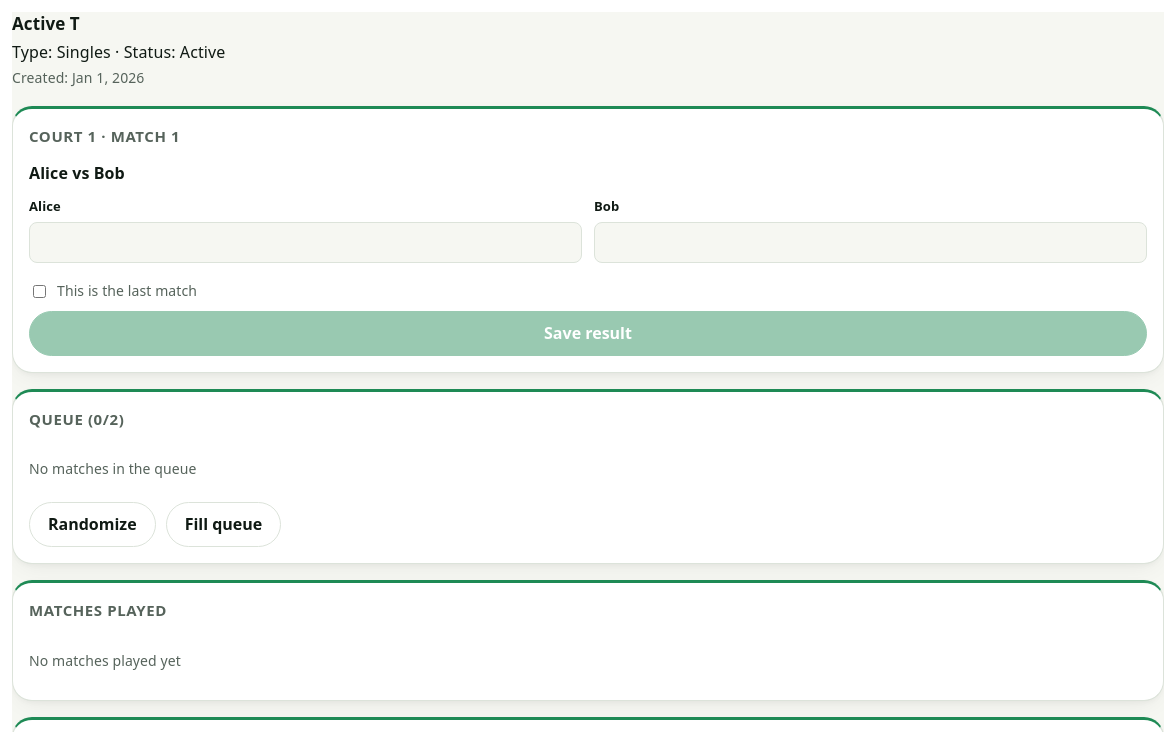
Test: TournamentDetail: Queue (Randomize / Fill queue / Remove) › warns with the reused players’ names when a draw reuses someone already in progress, and clears it on Remove
Expected: the heading "Court 1 · Match 1" is shown, [29,126,180,146]
Click the button "Randomize". click: [92, 525]
box: [29,502,156,547]
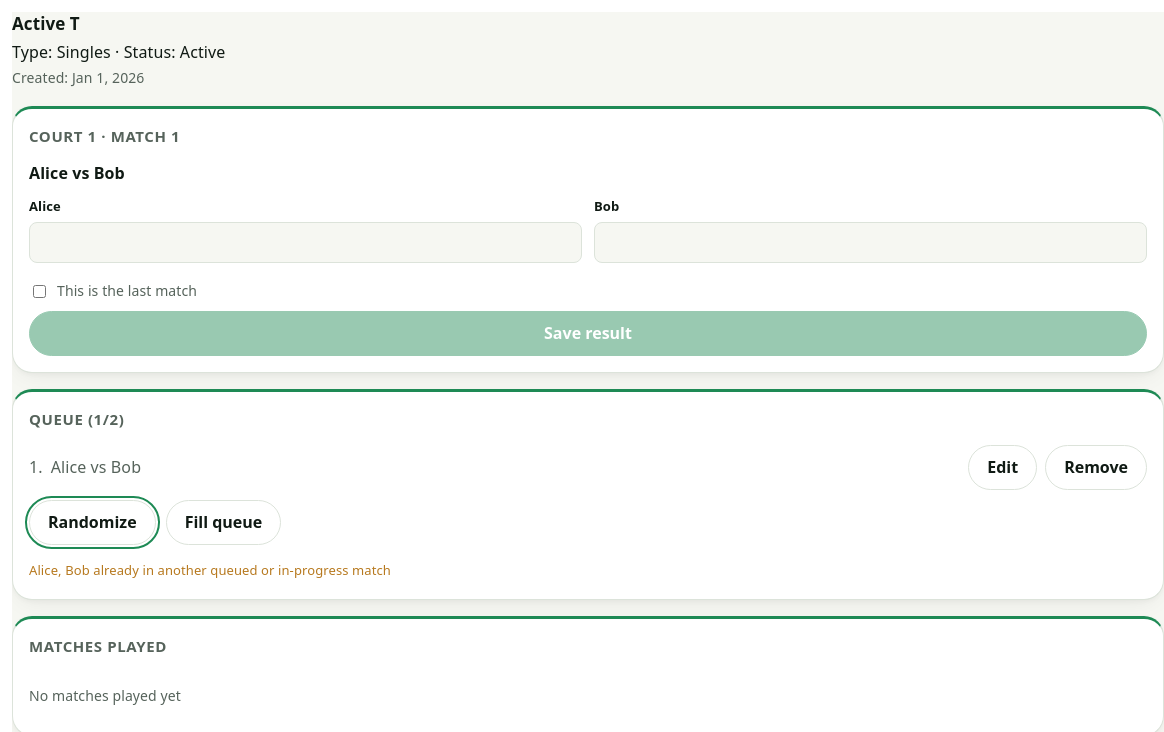
Expected: the text "Alice, Bob already in another queued or in-progress match" is shown, [29,561,391,579]
Click the button "Remove". click: [1096, 468]
box: [1045,445,1147,490]
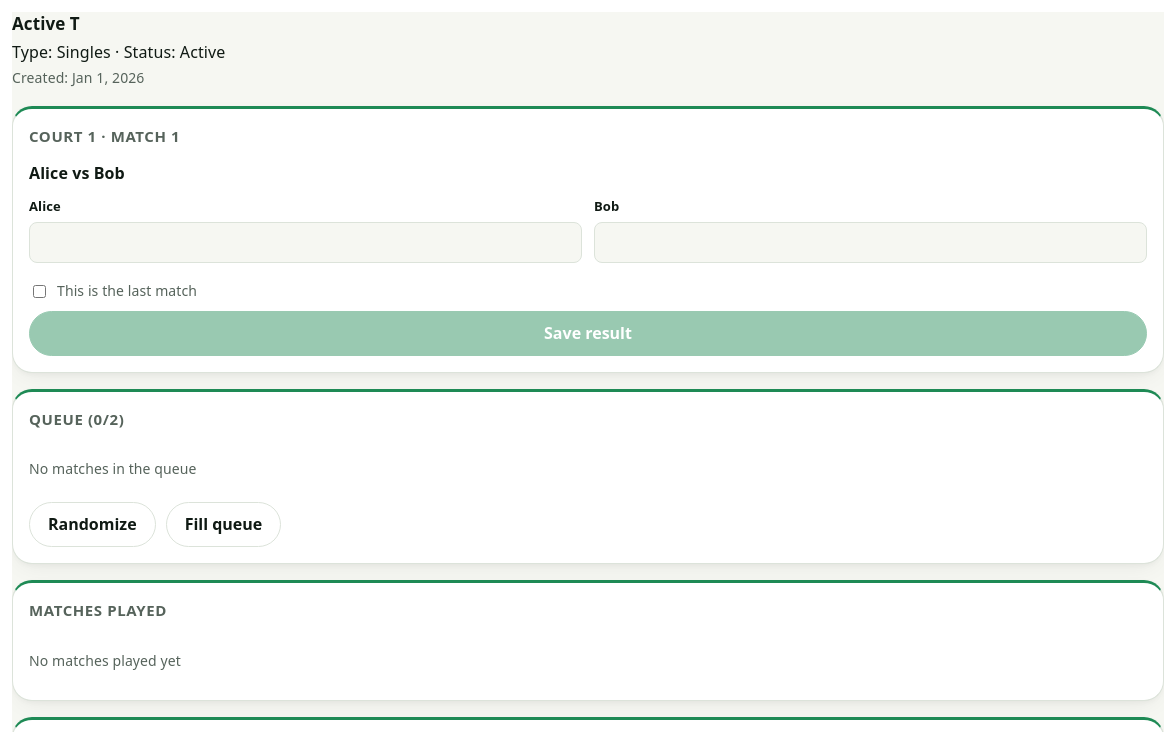
Expected: the text "Alice, Bob already in another queued or in-progress match" is gone
Expected: the text "No matches in the queue" is shown, [29,459,196,478]
